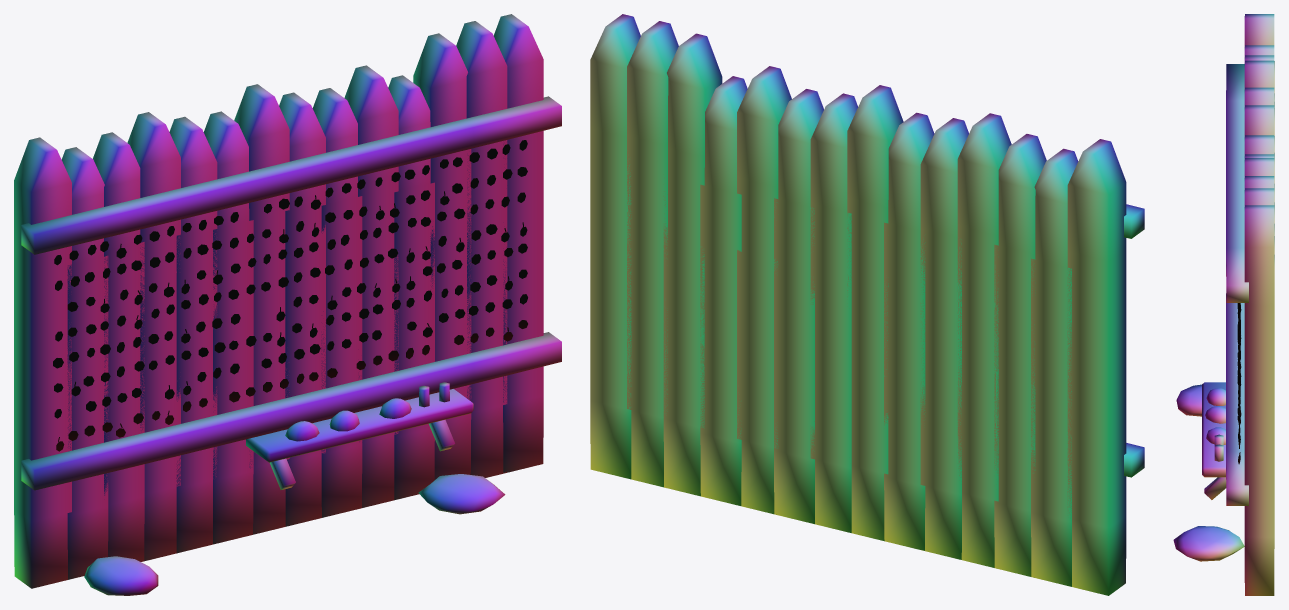
Rendered from SM_Prop_March_NameWall.fbx.
3 renders of one model, left to right at view 1: azimuth 30°, elevation 25°; view 2: azimuth 150°, elevation 25°; view 3: azimuth 270°, elevation 25°, orthographic. The views are drawn at different scales.
Parts seen in each view (by area): view 1: SM_Prop_March_NameWall; view 2: SM_Prop_March_NameWall; view 3: SM_Prop_March_NameWall.
Boxes of the visible parts, x1,y1,x2,y2 form: SM_Prop_March_NameWall: (14,14,561,595); SM_Prop_March_NameWall: (590,14,1144,595); SM_Prop_March_NameWall: (1173,14,1274,595).
Bounding box in the file's own units: 3.11 × 2.5 × 0.6002.
